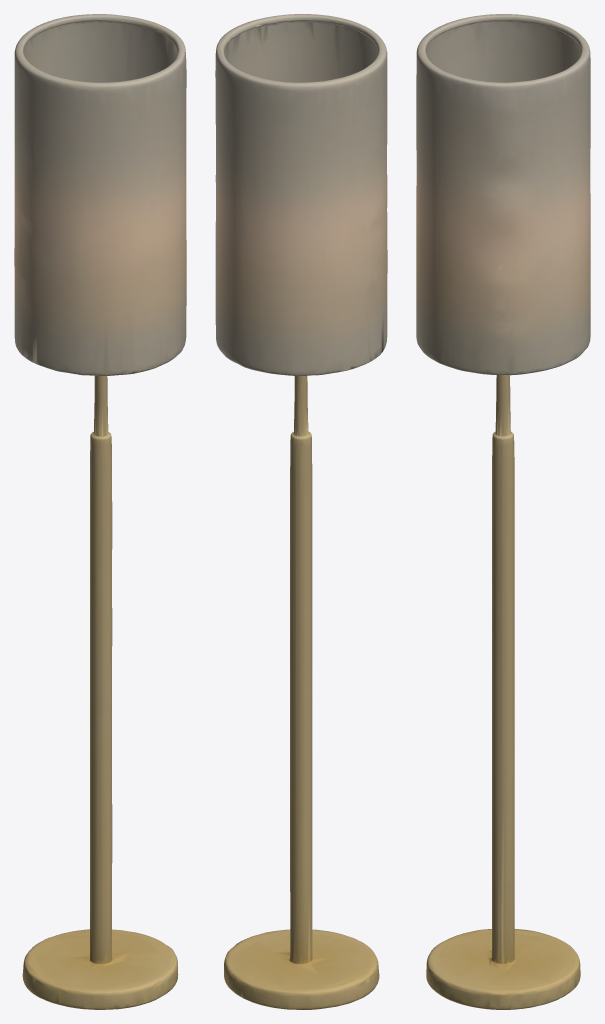
3 renders of one model, left to right at view 1: azimuth 30°, elevation 25°; view 2: azimuth 150°, elevation 25°; view 3: azimuth 270°, elevation 25°, orthographic.
Parts seen in each view (by area): view 1: material; view 2: material; view 3: material.
Part boxes in pixels (x1=…): material: x1=14, y1=14, x2=186, y2=1009; material: x1=215, y1=14, x2=387, y2=1009; material: x1=416, y1=14, x2=590, y2=1009.
Bounding box in the file's own units: 0.2017 × 1.18 × 0.2012.
1 material, 1 textured.
